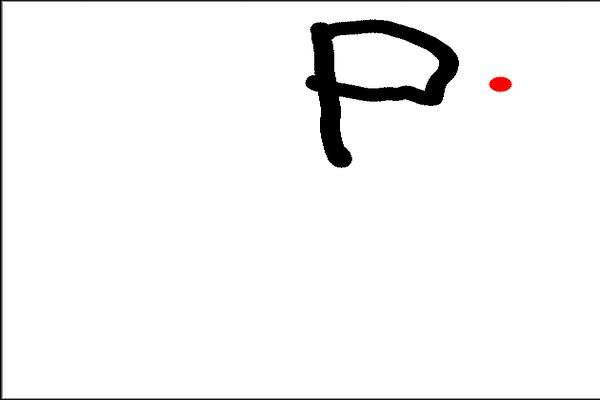P: (296, 9, 469, 170)
